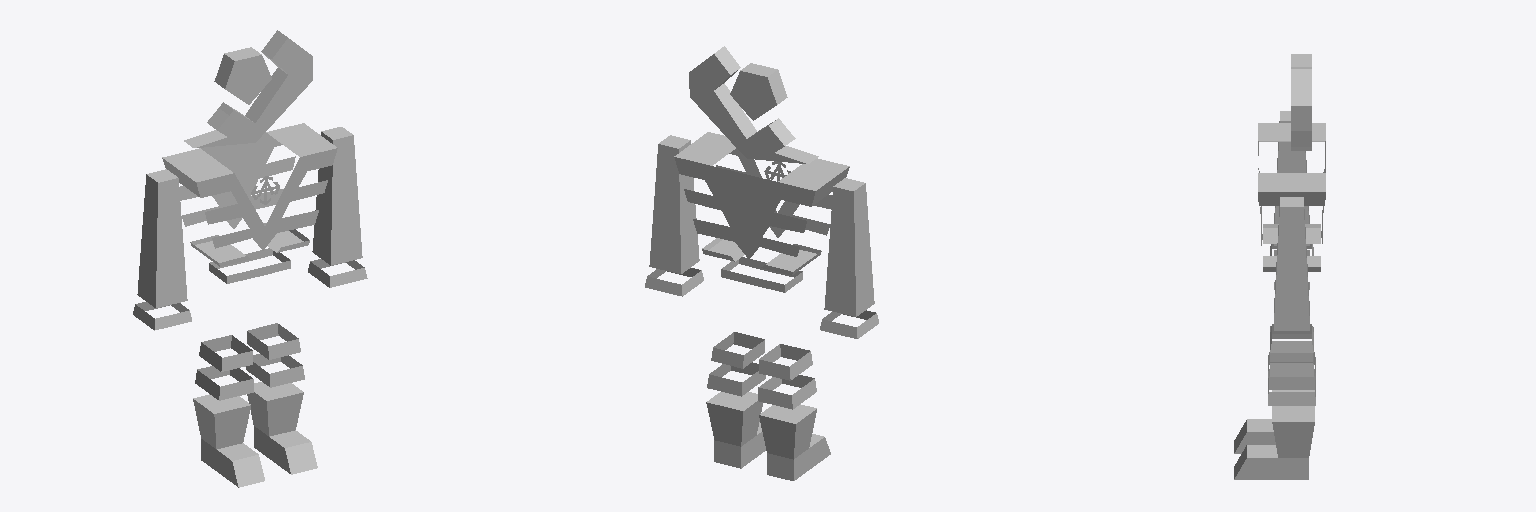
File: RUN(Black)(or you be blocked).obj
3 views of the same model, side by side, from view 1: azimuth 30°, elevation 25°; view 2: azimuth 150°, elevation 25°; view 3: azimuth 270°, elevation 25° (orthographic).
Parts seen in each view (by area): view 1: Black_Cube.001; view 2: Black_Cube.001; view 3: Black_Cube.001.
Boxes of the visible parts, box(x1,y1,x2,y2) form: Black_Cube.001: box(133, 30, 367, 487); Black_Cube.001: box(645, 46, 878, 480); Black_Cube.001: box(1234, 54, 1325, 479).
Bounding box in the file's own units: 1.46 × 2.68 × 0.5465.